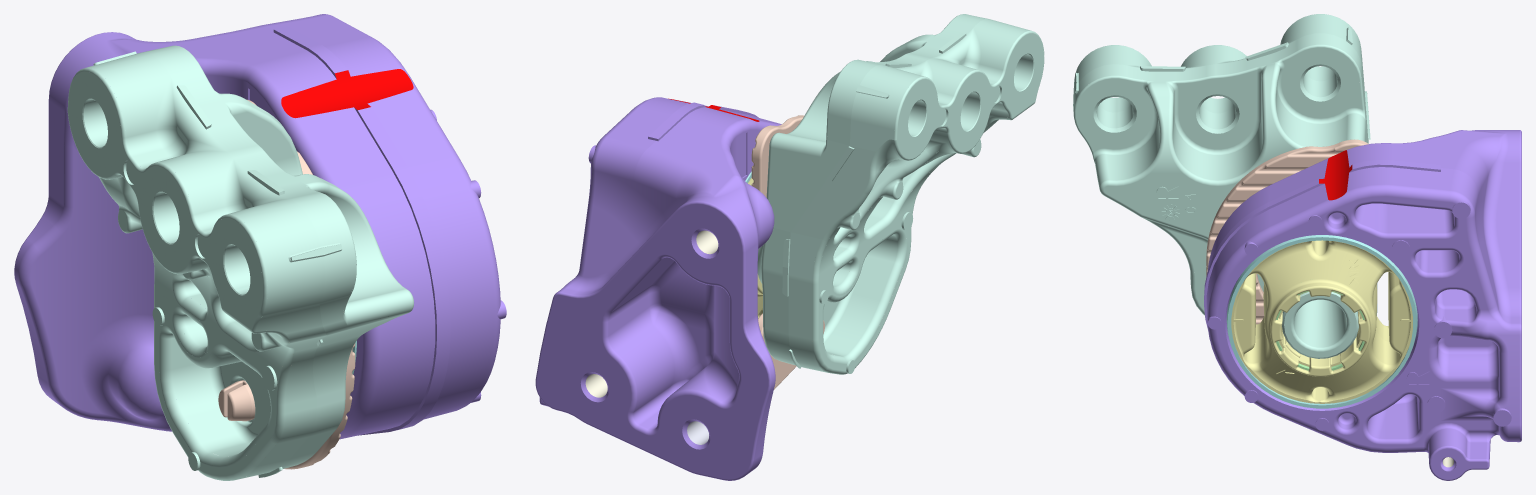
3 renders of one model, left to right at view 1: azimuth 30°, elevation 25°; view 2: azimuth 150°, elevation 25°; view 3: azimuth 270°, elevation 25°, orthographic. The views are drawn at different scales.
Parts seen in each view (by area): view 1: 1C0002-13-1, 1C0002-14-1, 1C0002-02-1; view 2: 1C0002-13-1, 1C0002-14-1, 1C0002-02-1; view 3: 1C0002-13-1, 1C0002-14-1, 1C0001-01(i‚èŒã)-1-1, 1C0002-02-1, 1C0001-11(i‚èŒã)-1-1.
Boxes of the visible parts, bbox=[...] form: 1C0002-13-1: bbox=[14, 14, 506, 439]; 1C0002-14-1: bbox=[67, 45, 413, 480]; 1C0002-02-1: bbox=[218, 99, 355, 469]; 1C0002-13-1: bbox=[535, 97, 781, 480]; 1C0002-14-1: bbox=[757, 14, 1044, 374]; 1C0002-02-1: bbox=[751, 115, 824, 389]; 1C0002-13-1: bbox=[1204, 130, 1521, 480]; 1C0002-14-1: bbox=[1073, 14, 1377, 358]; 1C0001-01(i‚èŒã)-1-1: bbox=[1231, 240, 1412, 403]; 1C0002-02-1: bbox=[1206, 139, 1368, 324]; 1C0001-11(i‚èŒã)-1-1: bbox=[1226, 235, 1417, 408].
Bounding box in the file's own units: 0.142 × 0.1624 × 0.1967.
